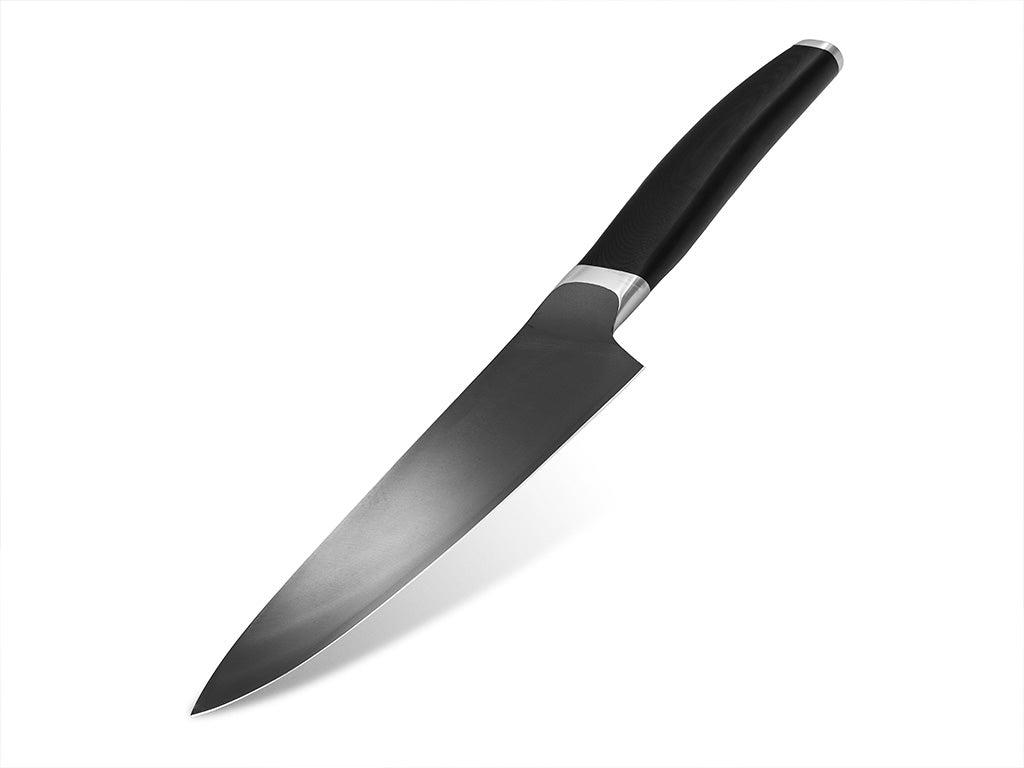Knife: (188, 36, 843, 716)
